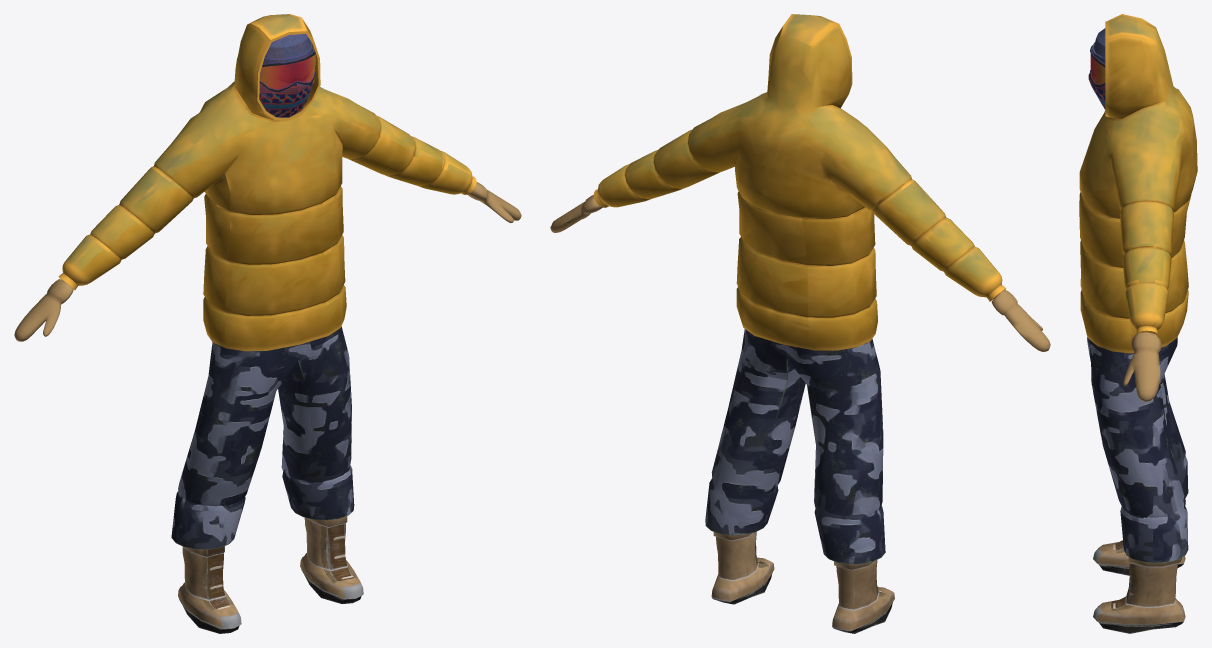
The model's file is nemo.glb.
The picture shows the model from 3 angles, left to right: view 1: azimuth 30°, elevation 25°; view 2: azimuth 150°, elevation 25°; view 3: azimuth 270°, elevation 25°; orthographic projection. The views are drawn at different scales.
Visible parts, largest first — view 1: jaket, trausers, boots, gloves, gogle, face-mask, beanie; view 2: jaket, trausers, boots, gloves; view 3: jaket, trausers, boots, gloves, gogle, beanie, face-mask.
Boxes of the visible parts, left/top/right/bottom form: jaket: left=58, top=14, right=476, bottom=351; trausers: left=171, top=326, right=354, bottom=549; boots: left=178, top=516, right=363, bottom=633; gloves: left=14, top=182, right=521, bottom=341; gogle: left=259, top=50, right=315, bottom=92; face-mask: left=259, top=80, right=313, bottom=117; beanie: left=263, top=34, right=312, bottom=64; jaket: left=593, top=14, right=1005, bottom=350; trausers: left=705, top=329, right=885, bottom=564; boots: left=711, top=532, right=894, bottom=633; gloves: left=550, top=195, right=1050, bottom=351; jaket: left=1079, top=14, right=1197, bottom=353; trausers: left=1087, top=337, right=1188, bottom=563; boots: left=1093, top=540, right=1185, bottom=633; gloves: left=1123, top=332, right=1161, bottom=402; gogle: left=1090, top=45, right=1105, bottom=86; beanie: left=1091, top=28, right=1105, bottom=63; face-mask: left=1088, top=72, right=1105, bottom=109.
Size of the model in its own units: 1.61 by 1.8 by 0.3348.
5 materials, 5 textured.
